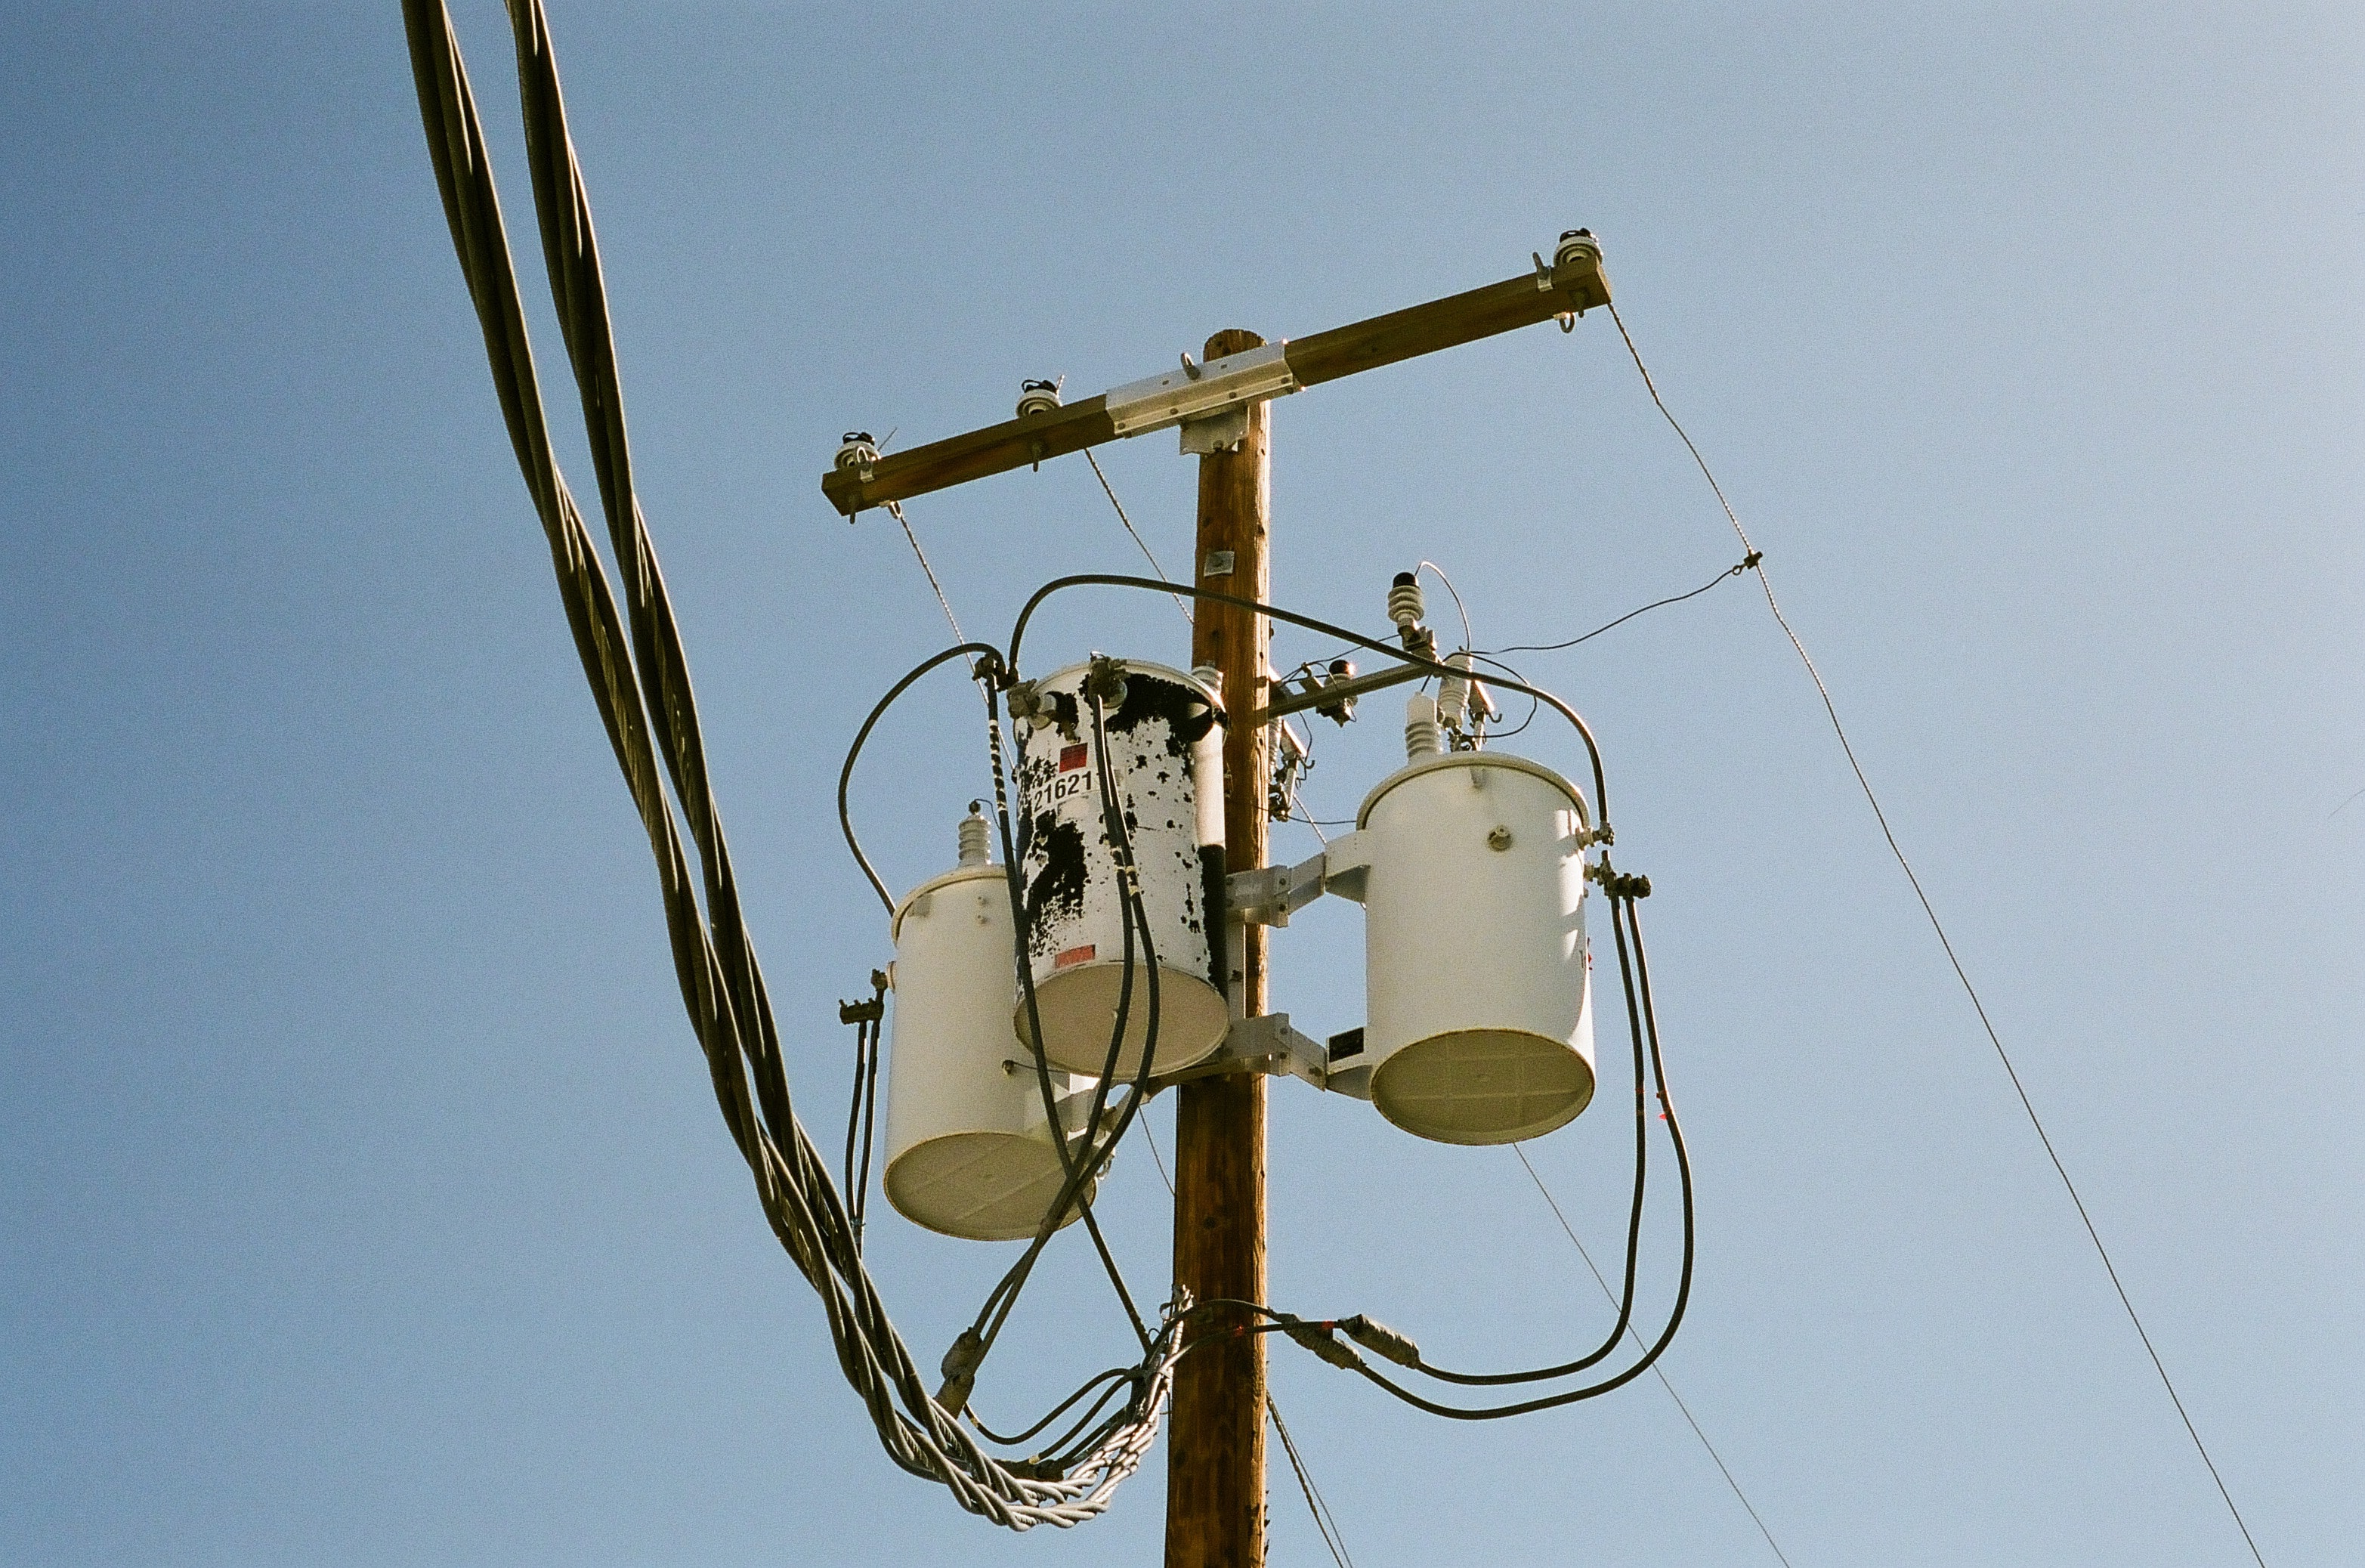utility_pole: (728, 194, 1805, 1559)
